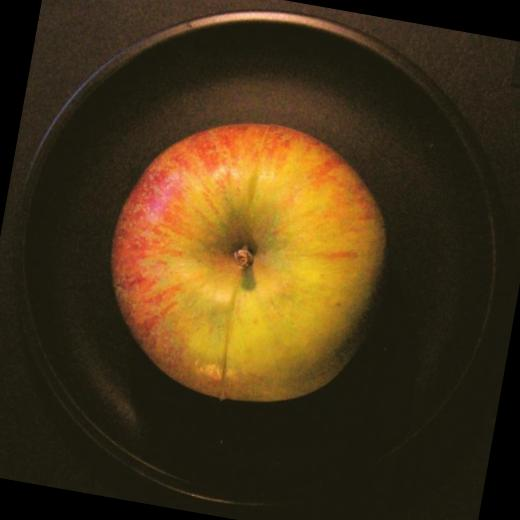Apple: (67, 87, 415, 424)
